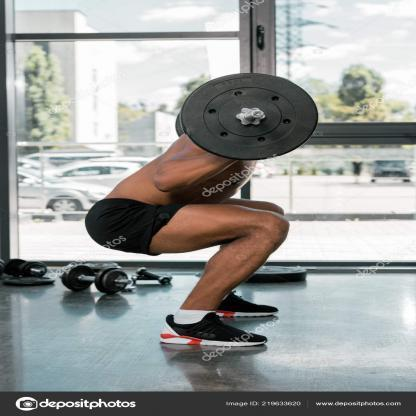barbell: (178, 72, 320, 162)
